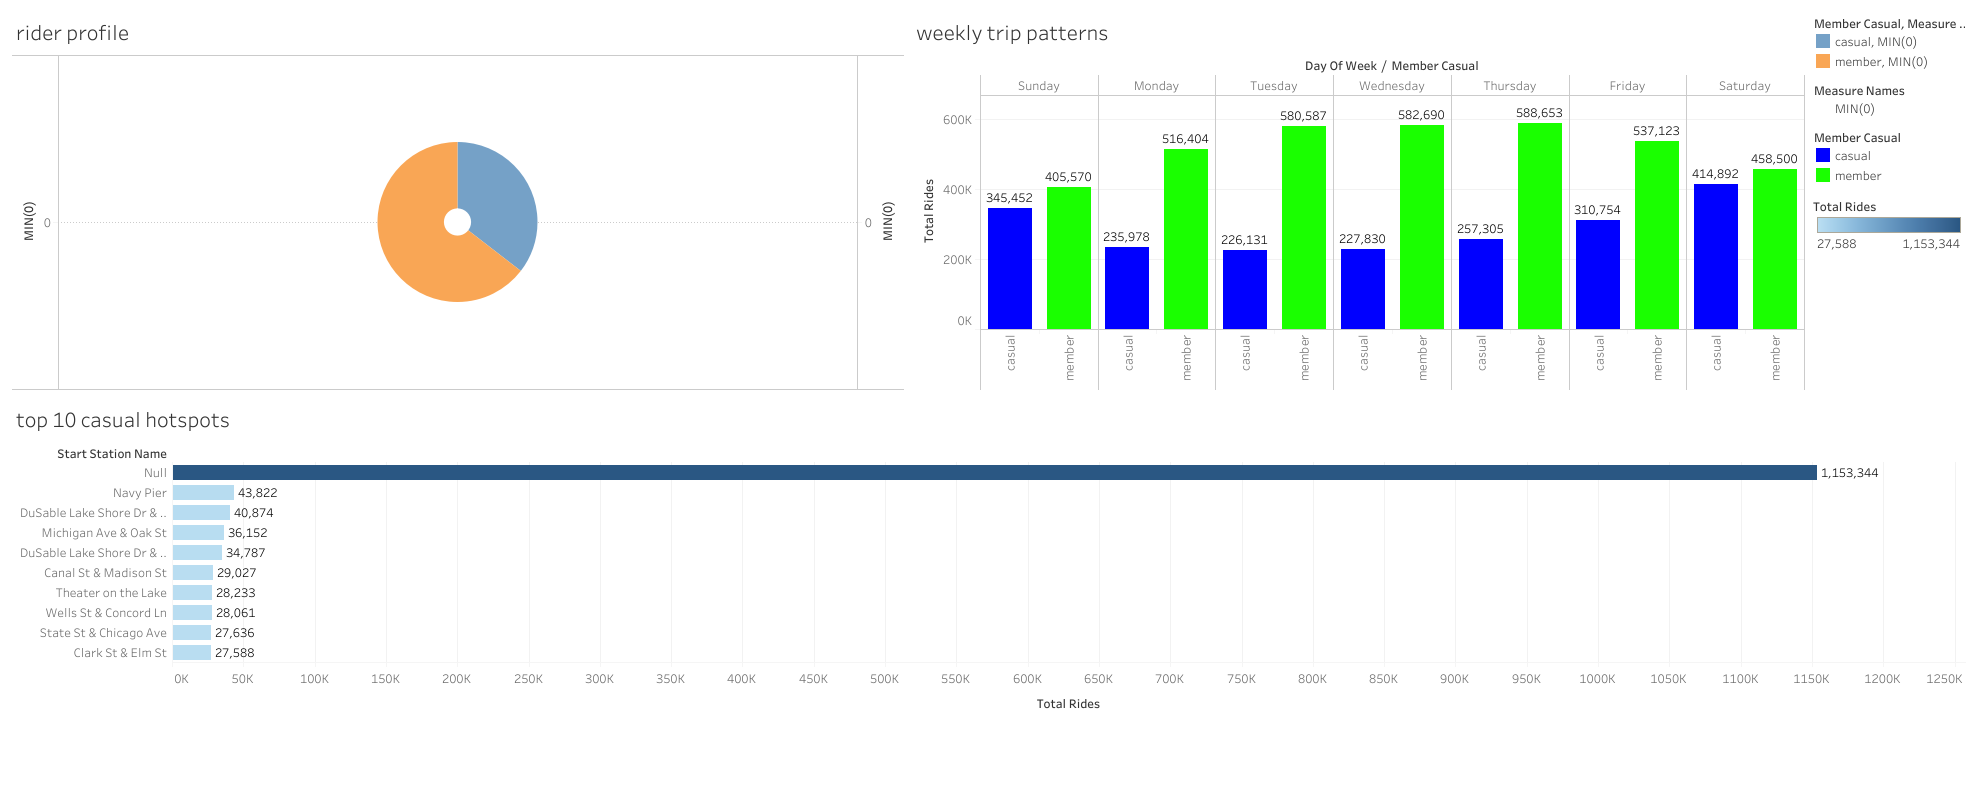

Layout of this report page (visuals, bound fields, positions):
{"tool":"tableau","page":{"name":"Dashboard 1","canvas":[1000,1000],"units":"permille","ordinal":0},"visuals":[{"type":"worksheet","title":"rider profile","mark":"Pie","rows":["Calculation_0237511583719425","Calculation_0237511583789059"],"box":[4.8,9.4,446.9,490.6]},{"type":"worksheet","title":"weekly trip patterns","mark":"Automatic","rows":["total_rides"],"cols":["day_of_week","member_casual"],"box":[451.7,9.4,446.9,490.6]},{"type":"legend","title":"rider profile","param":"[federated.1ermdl21uz1evu10xf91v1l5pa1m].[none:member_casual:nk]\n[federated.1erm","box":[898.6,9.4,96.6,84.6]},{"type":"legend","title":"rider profile","param":"[federated.1ermdl21uz1evu10xf91v1l5pa1m].[:Measure Names]","box":[898.6,94,96.6,59.9]},{"type":"legend","title":"weekly trip patterns","param":"[federated.1ermdl21uz1evu10xf91v1l5pa1m].[none:member_casual:nk]","box":[898.6,153.9,96.6,84.6]},{"type":"legend","title":"top 10 casual hotspots","param":"[federated.1ermdl21uz1evu10xf91v1l5pa1m].[sum:total_rides:qk]","box":[898.6,238.6,96.6,85.8]},{"type":"worksheet","title":"top 10 casual hotspots","mark":"Automatic","rows":["start_station_name"],"cols":["total_rides"],"box":[4.8,500,990.3,490.6]}]}

Visuals, with their boxes on the dashboard's canvas, which has no fixed pixel size, in thousandths of its width and height (x1, y1, x2, y2). These are canvas units, not pixel positions in the 1976x788 screenshot, which may show the page scaled, cropped or inside an application window:
"rider profile" worksheet (Pie marks): [5,9,452,500]
"weekly trip patterns" worksheet: [452,9,899,500]
"rider profile" legend: [899,9,995,94]
"rider profile" legend: [899,94,995,154]
"weekly trip patterns" legend: [899,154,995,238]
"top 10 casual hotspots" legend: [899,239,995,324]
"top 10 casual hotspots" worksheet: [5,500,995,991]
